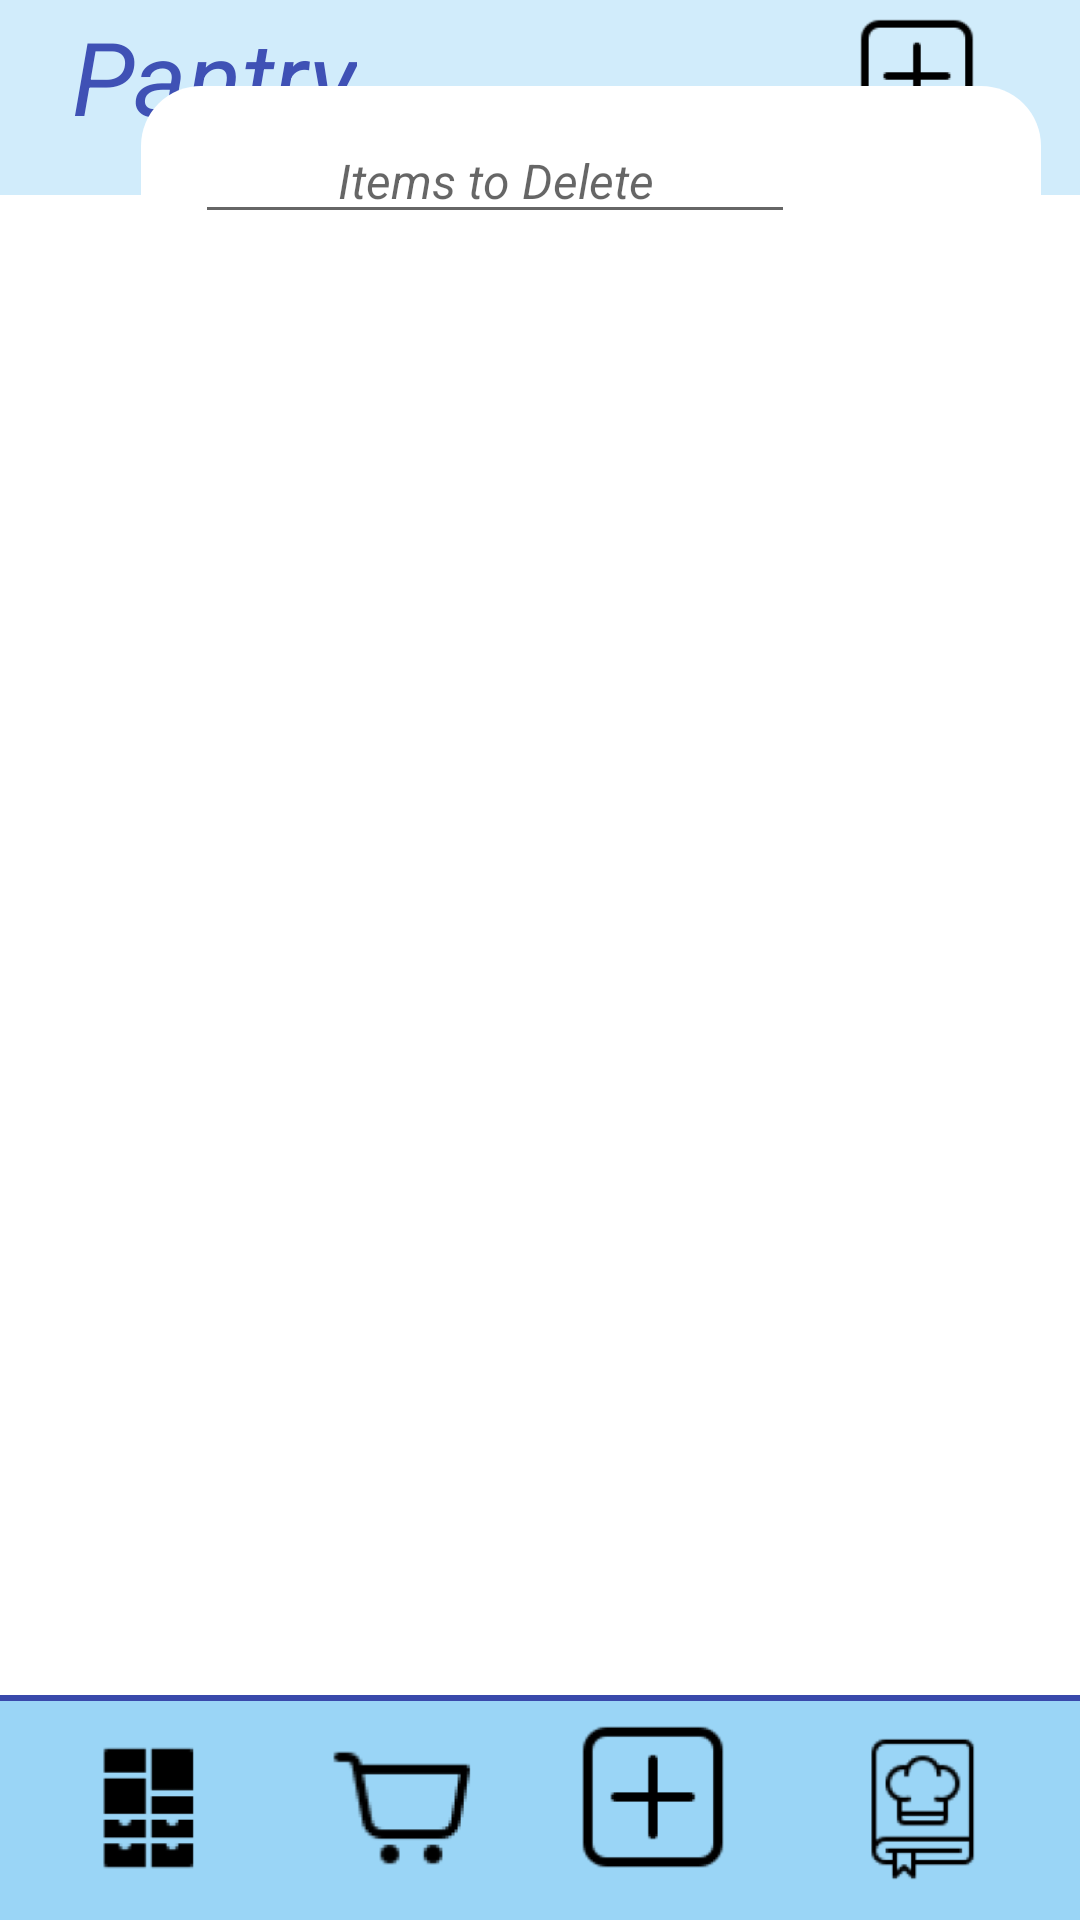

Locate icon controls on the screen. Image size 1080 x 1920, boxes as (x1, y1, x2, y2).
cart: (333, 1751, 470, 1865)
cookbook: (871, 1739, 974, 1879)
pantry: (103, 1748, 194, 1868)
